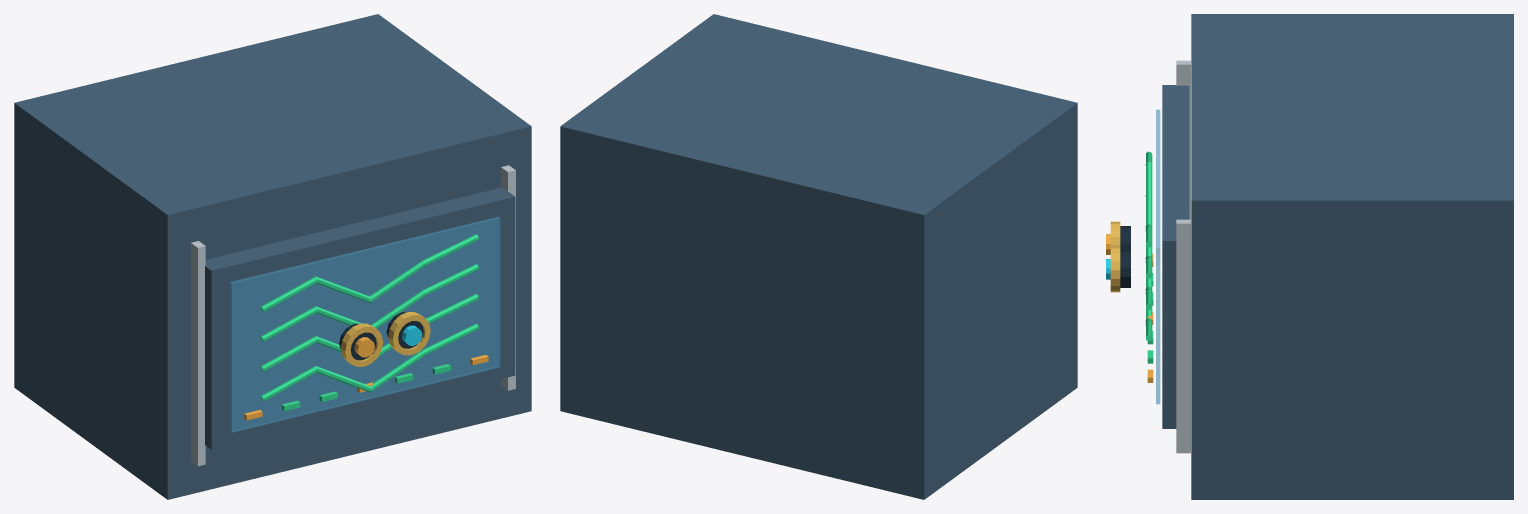
Rendered from 08_L81_ParticleEventPatternDirector.fbx.
3 views of the same model, side by side, from view 1: azimuth 30°, elevation 25°; view 2: azimuth 150°, elevation 25°; view 3: azimuth 270°, elevation 25° (orthographic). The views are drawn at different scales.
Visible parts, largest first — view 1: ParticleEventPatternDirector; view 2: ParticleEventPatternDirector; view 3: ParticleEventPatternDirector.
Part boxes in pixels (x1=…): ParticleEventPatternDirector: x1=14, y1=14, x2=531, y2=499; ParticleEventPatternDirector: x1=560, y1=14, x2=1077, y2=499; ParticleEventPatternDirector: x1=1106, y1=14, x2=1513, y2=499.
Size of the model in its own units: 115 by 86 by 106.
